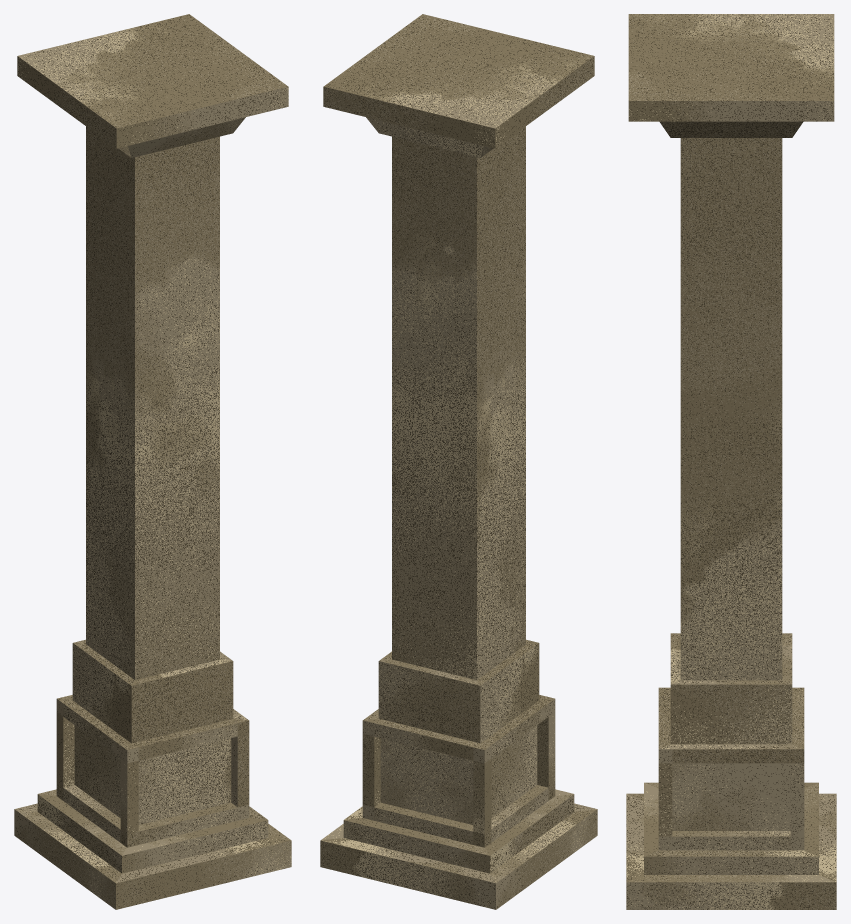
Rendered from stone pillar.fbx.
3 renders of one model, left to right at view 1: azimuth 30°, elevation 25°; view 2: azimuth 150°, elevation 25°; view 3: azimuth 270°, elevation 25°, orthographic. The views are drawn at different scales.
Visible parts, largest first — view 1: 立方体.001; view 2: 立方体.001; view 3: 立方体.001.
Boxes of the visible parts, x1=… form: 立方体.001: x1=14, y1=14, x2=291, y2=909; 立方体.001: x1=320, y1=14, x2=597, y2=909; 立方体.001: x1=626, y1=14, x2=836, y2=909.
Bounding box in the file's own units: 415 × 1759 × 415.
Materials: 1 (1 with a texture image).
